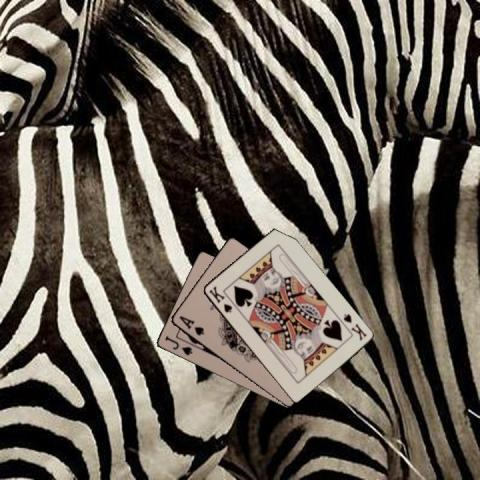As: (176, 313, 205, 337)
Js: (162, 332, 194, 356)
Ks: (340, 311, 368, 342), (206, 283, 233, 314)
